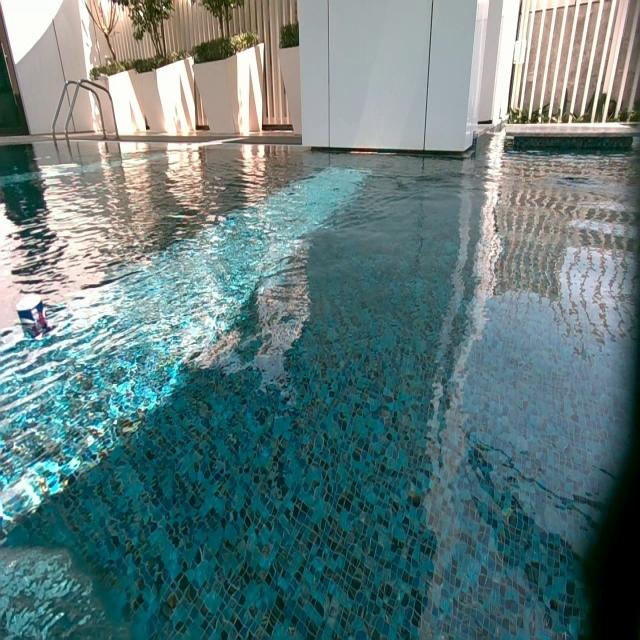Cans: (16, 292, 47, 328)
